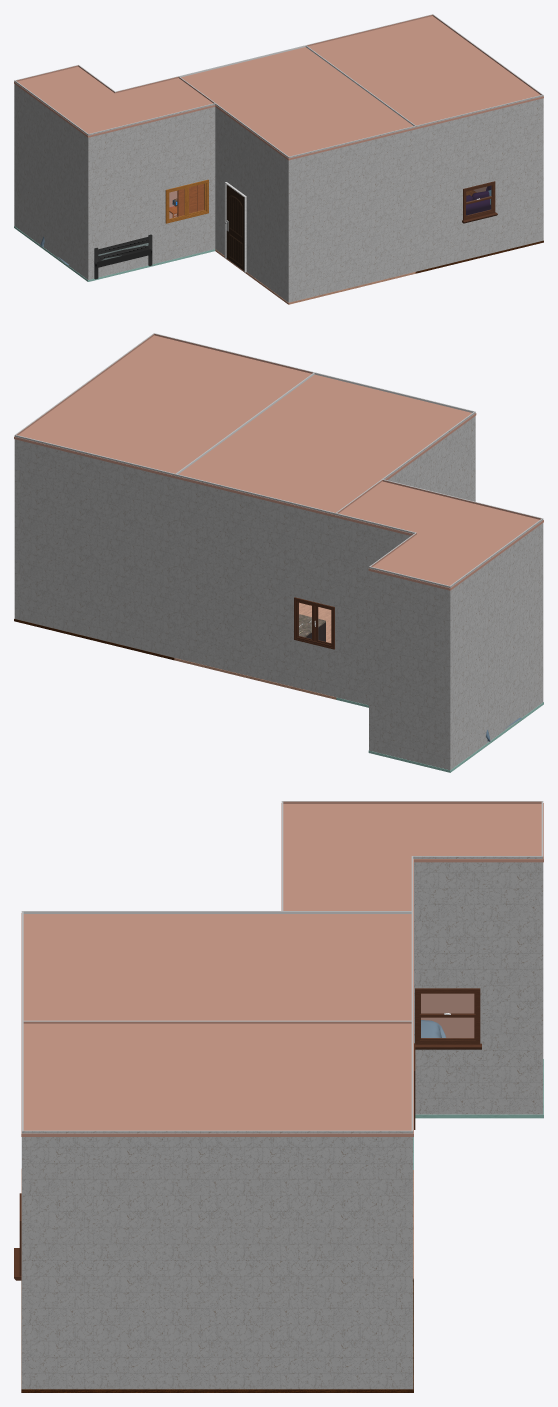
File: ProcTHOR-Train-50.glb
The picture shows the model from 3 angles, top to bottom: view 1: azimuth 30°, elevation 25°; view 2: azimuth 150°, elevation 25°; view 3: azimuth 270°, elevation 25°; orthographic projection. The views are drawn at different scales.
Parts seen in each view (by area): view 1: WallInside#wall|exterior|3.65|7.29|7.29|7.29, WallInside#wall|exterior|0.00|7.29|3.65|7.29, WallInside#wall|exterior|7.29|3.65|10.94|3.65, Ceiling#room|6|c, Ceiling#room|7|c, WallInside#wall|exterior|10.94|0.00|10.94|3.65, WallInside#wall|exterior|7.29|3.65|7.29|7.29, Ceiling#room|2|c, Doorway_9, Bed_19, Window_Slider_48x36, Window_Hung_36x32 (+5 smaller); view 2: WallInside#wall|exterior|0.00|1.82|3.65|1.82, WallInside#wall|exterior|3.65|1.82|7.29|1.82, Ceiling#room|6|c, Ceiling#room|7|c, WallInside#wall|exterior|10.94|0.00|10.94|3.65, WallInside#wall|exterior|9.12|0.00|10.94|0.00, Ceiling#room|2|c, WallInside#wall|exterior|7.29|1.82|9.12|1.82, WallInside#wall|exterior|7.29|3.65|7.29|7.29, Window_Slider_36x36, Floor#room|6|f, Floor#room|2|f; view 3: WallInside#wall|exterior|0.00|1.82|0.00|7.29, Ceiling#room|7|c, Ceiling#room|6|c, WallInside#wall|exterior|9.12|0.00|9.12|1.82, Ceiling#room|2|c, WallInside#wall|2|10.94|0.00|10.94|3.65, Window_Hung_36x32, Floor#room|7|f, WallInside#wall|7|3.65|1.82|3.65|7.29, WallInside#wall|6|7.29|3.65|7.29|7.29, WallInside#wall|6|3.65|1.82|3.65|7.29, Floor#room|2|f.
Boxes of the visible parts, left/top/right/bottom form: WallInside#wall|exterior|3.65|7.29|7.29|7.29: left=288, top=126, right=416, bottom=302; WallInside#wall|exterior|0.00|7.29|3.65|7.29: left=415, top=95, right=543, bottom=271; WallInside#wall|exterior|7.29|3.65|10.94|3.65: left=88, top=103, right=215, bottom=279; Ceiling#room|6|c: left=180, top=47, right=416, bottom=160; Ceiling#room|7|c: left=308, top=16, right=543, bottom=128; WallInside#wall|exterior|10.94|0.00|10.94|3.65: left=14, top=80, right=88, bottom=279; WallInside#wall|exterior|7.29|3.65|7.29|7.29: left=215, top=103, right=288, bottom=302; Ceiling#room|2|c: left=14, top=66, right=215, bottom=137; Doorway_9: left=224, top=182, right=246, bottom=272; Bed_19: left=40, top=234, right=152, bottom=279; Window_Slider_48x36: left=165, top=179, right=208, bottom=223; Window_Hung_36x32: left=462, top=181, right=497, bottom=223; WallInside#wall|exterior|0.00|1.82|3.65|1.82: left=14, top=435, right=175, bottom=657; WallInside#wall|exterior|3.65|1.82|7.29|1.82: left=175, top=474, right=335, bottom=697; Ceiling#room|6|c: left=174, top=374, right=476, bottom=517; Ceiling#room|7|c: left=14, top=335, right=312, bottom=477; WallInside#wall|exterior|10.94|0.00|10.94|3.65: left=450, top=518, right=543, bottom=769; WallInside#wall|exterior|9.12|0.00|10.94|0.00: left=369, top=566, right=450, bottom=770; Ceiling#room|2|c: left=334, top=481, right=543, bottom=590; WallInside#wall|exterior|7.29|1.82|9.12|1.82: left=335, top=513, right=415, bottom=705; WallInside#wall|exterior|7.29|3.65|7.29|7.29: left=383, top=412, right=475, bottom=501; Window_Slider_36x36: left=294, top=597, right=334, bottom=649; Floor#room|6|f: left=174, top=602, right=336, bottom=699; Floor#room|2|f: left=336, top=697, right=543, bottom=772; WallInside#wall|exterior|0.00|1.82|0.00|7.29: left=22, top=1131, right=413, bottom=1389; Ceiling#room|7|c: left=21, top=1023, right=413, bottom=1136; Ceiling#room|6|c: left=21, top=913, right=413, bottom=1023; WallInside#wall|exterior|9.12|0.00|9.12|1.82: left=412, top=856, right=543, bottom=1114; Ceiling#room|2|c: left=281, top=803, right=543, bottom=914; WallInside#wall|2|10.94|0.00|10.94|3.65: left=282, top=801, right=542, bottom=1037; Window_Hung_36x32: left=415, top=988, right=481, bottom=1049; Floor#room|7|f: left=21, top=1278, right=413, bottom=1392; WallInside#wall|7|3.65|1.82|3.65|7.29: left=22, top=1021, right=412, bottom=1023; WallInside#wall|6|7.29|3.65|7.29|7.29: left=23, top=911, right=283, bottom=913; WallInside#wall|6|3.65|1.82|3.65|7.29: left=23, top=1020, right=412, bottom=1021; Floor#room|2|f: left=413, top=1059, right=543, bottom=1169.
Size of what is drawn, in the model's own units: 11.05 by 4.04 by 7.43.
223 materials, 95 textured.
